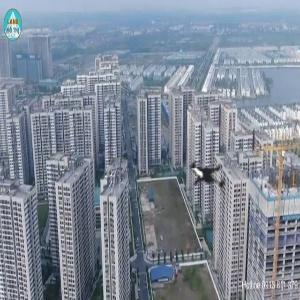drone: (164, 128, 257, 221)
